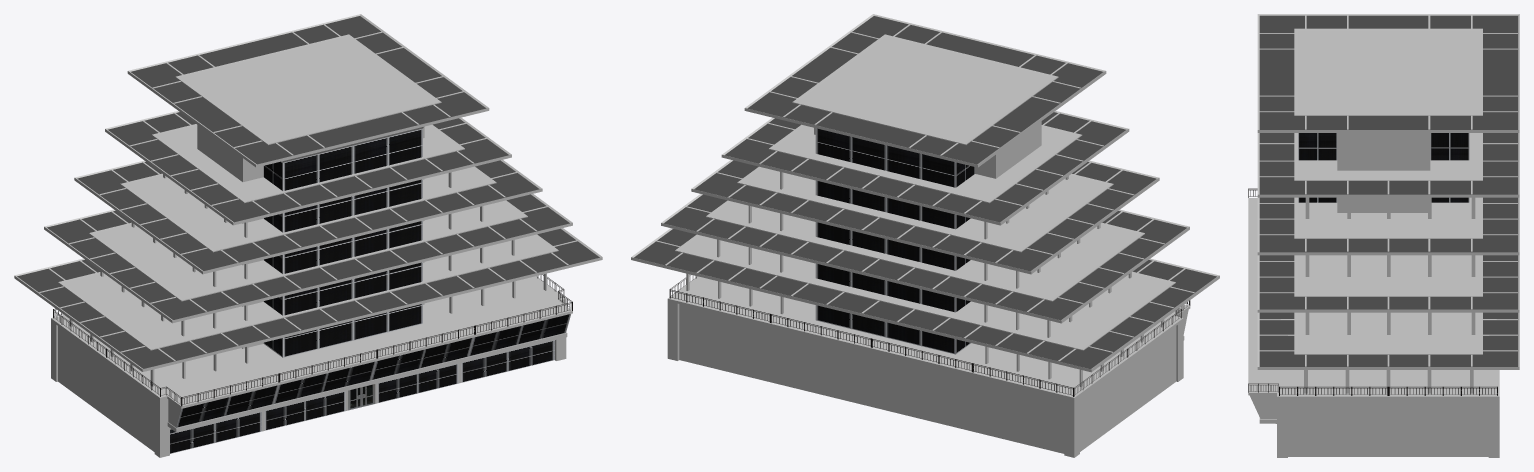
Rendered from building-G-03.fbx.
3 views of the same model, side by side, from view 1: azimuth 30°, elevation 25°; view 2: azimuth 150°, elevation 25°; view 3: azimuth 270°, elevation 25° (orthographic). The views are drawn at different scales.
Visible parts, largest first — view 1: Building-G-03; view 2: Building-G-03; view 3: Building-G-03.
Part boxes in pixels (x1,y1,x2,y2): Building-G-03: [14, 14, 602, 457]; Building-G-03: [631, 14, 1219, 457]; Building-G-03: [1248, 14, 1519, 457].
Size of the model in its own units: 5857 by 3393 by 2930.
